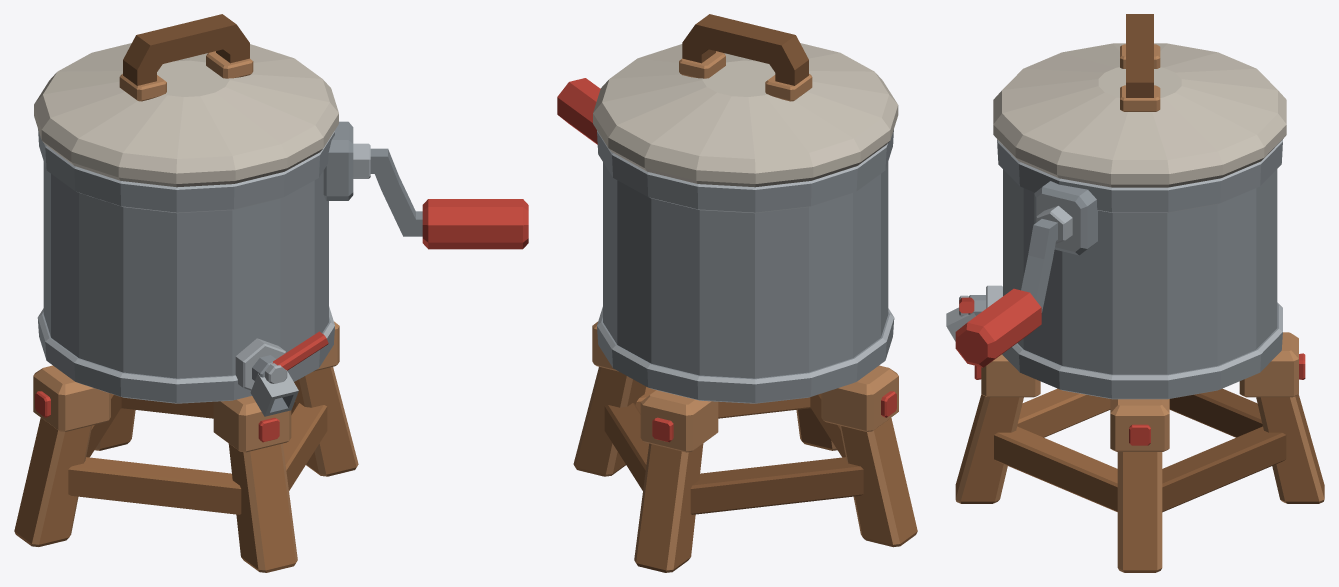
Rendered from FMS_Workshop_STA_12.fbx.
3 renders of one model, left to right at view 1: azimuth 30°, elevation 25°; view 2: azimuth 150°, elevation 25°; view 3: azimuth 270°, elevation 25°, orthographic. The views are drawn at different scales.
Parts seen in each view (by area): view 1: FMS_Workshop_STA_12_Body, FMS_Workshop_STA_12_Lid, FMS_Workshop_STA_12_Crank; view 2: FMS_Workshop_STA_12_Body, FMS_Workshop_STA_12_Lid, FMS_Workshop_STA_12_Crank; view 3: FMS_Workshop_STA_12_Body, FMS_Workshop_STA_12_Lid, FMS_Workshop_STA_12_Crank.
Part boxes in pixels (x1=…): FMS_Workshop_STA_12_Body: x1=14, y1=121, x2=358, y2=572; FMS_Workshop_STA_12_Lid: x1=34, y1=14, x2=338, y2=187; FMS_Workshop_STA_12_Crank: x1=353, y1=143, x2=528, y2=249; FMS_Workshop_STA_12_Body: x1=573, y1=130, x2=917, y2=572; FMS_Workshop_STA_12_Lid: x1=593, y1=14, x2=898, y2=187; FMS_Workshop_STA_12_Crank: x1=557, y1=78, x2=600, y2=144; FMS_Workshop_STA_12_Body: x1=946, y1=139, x2=1324, y2=572; FMS_Workshop_STA_12_Lid: x1=993, y1=14, x2=1286, y2=187; FMS_Workshop_STA_12_Crank: x1=955, y1=205, x2=1072, y2=367.
Size of what is drawn, in the model's own units: 1.14 by 1.2 by 0.8926.
1 material, 1 textured.
